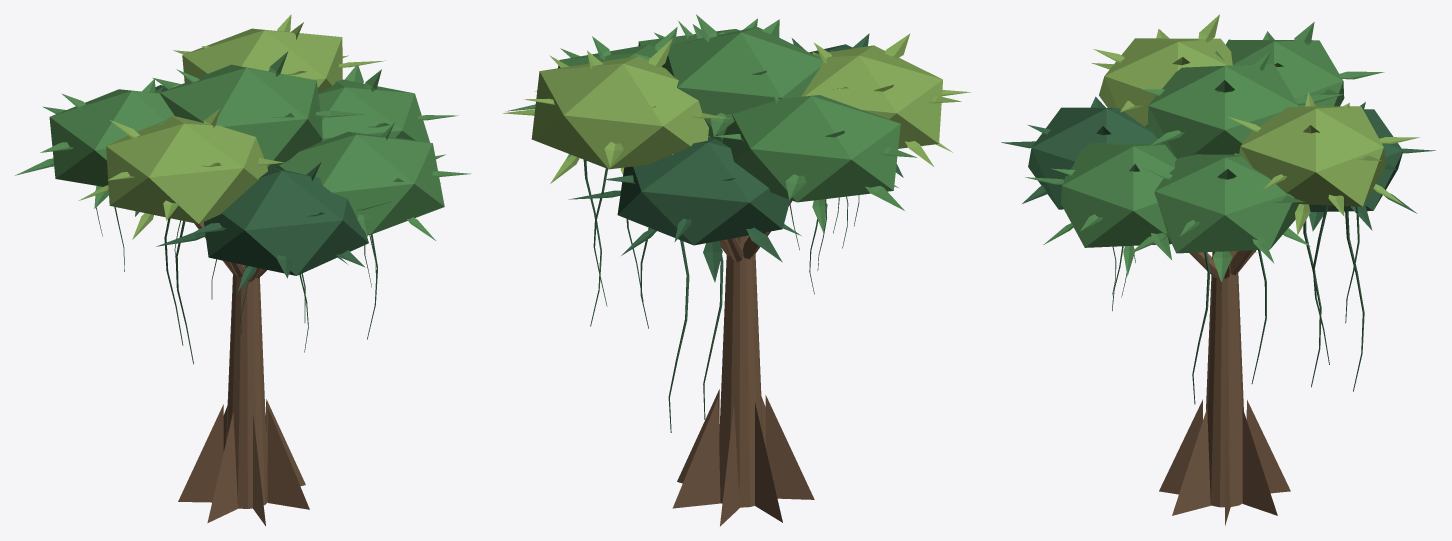
The model's file is tree_kapok.glb.
The picture shows the model from 3 angles, left to right: view 1: azimuth 30°, elevation 25°; view 2: azimuth 150°, elevation 25°; view 3: azimuth 270°, elevation 25°; orthographic projection. The views are drawn at different scales.
Parts seen in each view (by area): view 1: tree_kapok; view 2: tree_kapok; view 3: tree_kapok.
Part boxes in pixels (bbox=[...]): tree_kapok: bbox=[15, 14, 471, 526]; tree_kapok: bbox=[503, 14, 971, 526]; tree_kapok: bbox=[1001, 14, 1435, 525].
Bounding box in the file's own units: 22 × 23.82 × 21.55.
